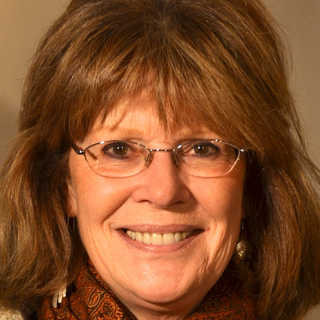eye: (180, 140, 228, 161), (98, 140, 143, 161)
